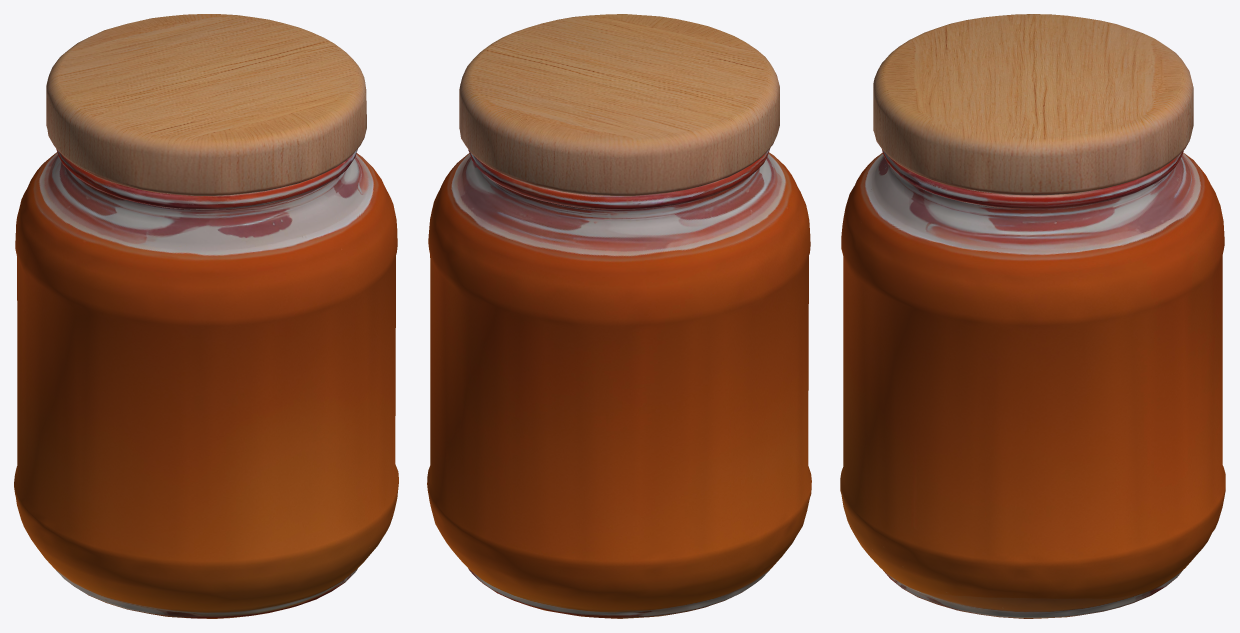
Rendered from 橘子酱.fbx.
3 views of the same model, side by side, from view 1: azimuth 30°, elevation 25°; view 2: azimuth 150°, elevation 25°; view 3: azimuth 270°, elevation 25° (orthographic).
Visible parts, largest first — view 1: tripo_node_2b3e39fb; view 2: tripo_node_2b3e39fb; view 3: tripo_node_2b3e39fb.
Boxes of the visible parts, left/top/right/bottom form: tripo_node_2b3e39fb: left=14, top=14, right=398, bottom=618; tripo_node_2b3e39fb: left=427, top=14, right=811, bottom=618; tripo_node_2b3e39fb: left=840, top=14, right=1225, bottom=618.
Size of the model in its own units: 0.6819 by 0.9469 by 0.6819.
Materials: 1 (1 with a texture image).
